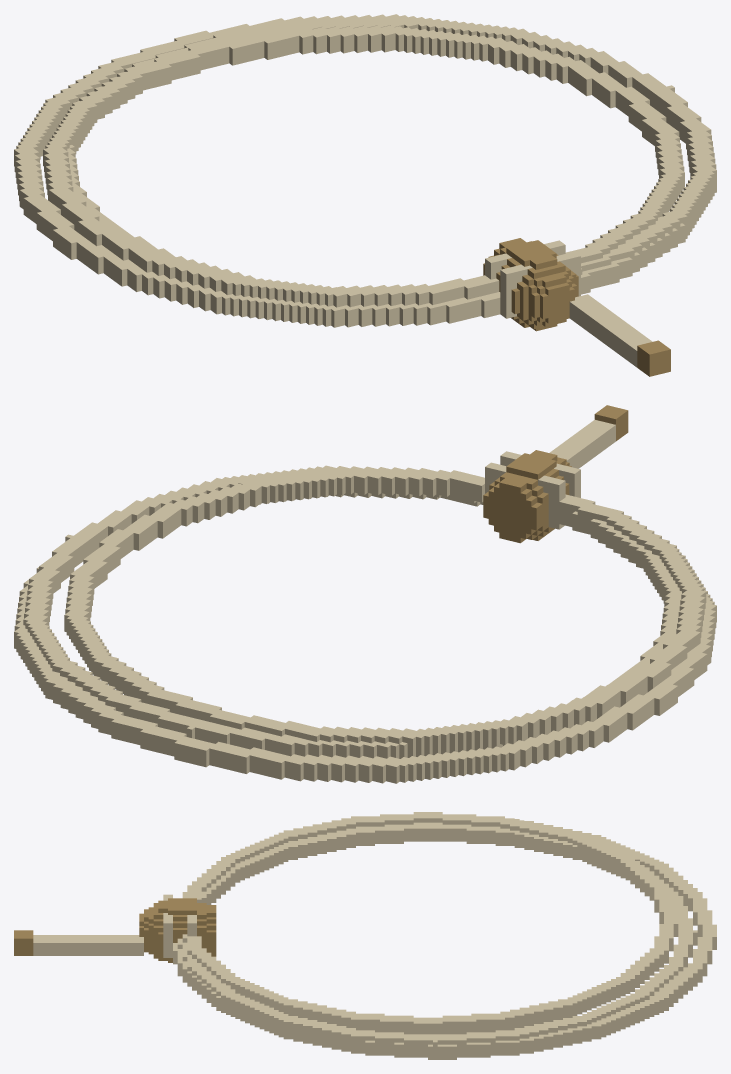
The model's file is rope_loop.glb.
The picture shows the model from 3 angles, top to bottom: view 1: azimuth 30°, elevation 25°; view 2: azimuth 150°, elevation 25°; view 3: azimuth 270°, elevation 25°; orthographic projection. The views are drawn at different scales.
Parts seen in each view (by area): view 1: rope_loop:compound; view 2: rope_loop:compound; view 3: rope_loop:compound.
Part boxes in pixels (x1,y1,x2,y2): rope_loop:compound: (14,14,716,376); rope_loop:compound: (14,405,716,783); rope_loop:compound: (14,812,716,1059).
Bounding box in the file's own units: 0.456 × 0.048 × 0.584.
